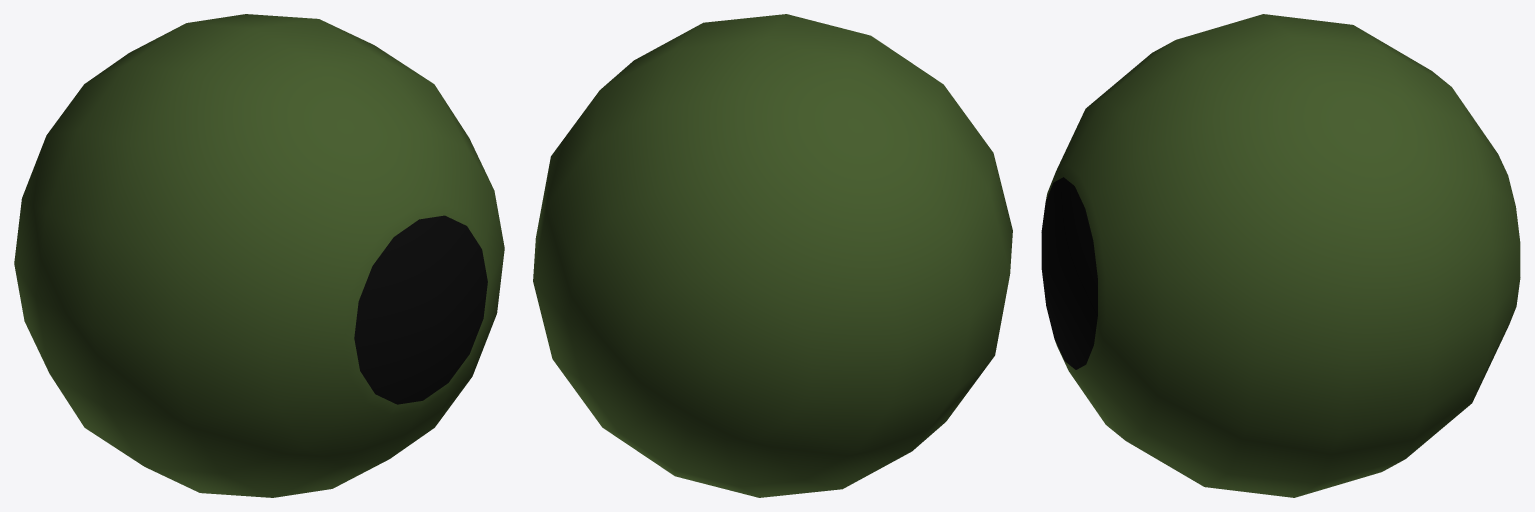
File: serval_eye.obj
The picture shows the model from 3 angles, left to right: view 1: azimuth 30°, elevation 25°; view 2: azimuth 150°, elevation 25°; view 3: azimuth 270°, elevation 25°; orthographic projection.
Parts seen in each view (by area): view 1: eye; view 2: eye; view 3: eye.
Part boxes in pixels (x1=…): eye: x1=14, y1=14, x2=504, y2=497; eye: x1=533, y1=14, x2=1012, y2=497; eye: x1=1041, y1=14, x2=1520, y2=497.
Size of the model in its own units: 0.0358 by 0.0359 by 0.0354.
